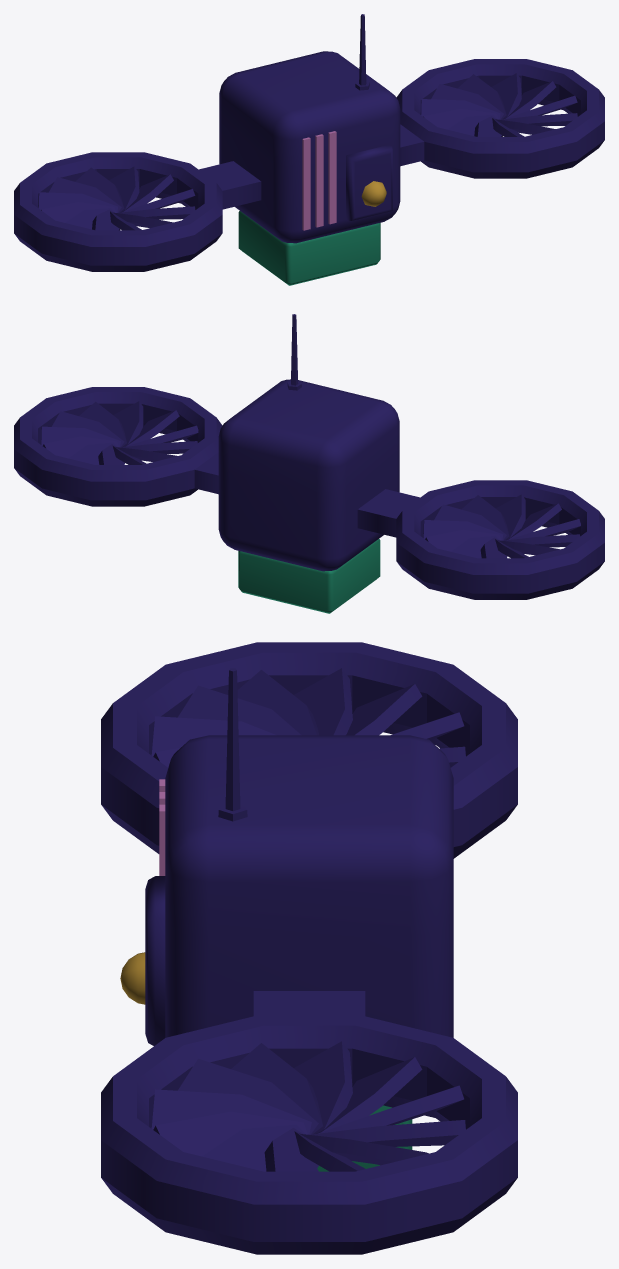
File: SM_Enemy_Blocking_02.fbx
3 renders of one model, top to bottom at view 1: azimuth 30°, elevation 25°; view 2: azimuth 150°, elevation 25°; view 3: azimuth 270°, elevation 25°, orthographic. The views are drawn at different scales.
Visible parts, largest first — view 1: SM_Body, SM_Fan_R, SM_Fan_L, SM_Bomb, SM_Emissive, SM_Eye; view 2: SM_Body, SM_Fan_R, SM_Fan_L, SM_Bomb; view 3: SM_Body, SM_Fan_L, SM_Fan_R, SM_Eye.
Part boxes in pixels (box(x1,y1,x2,y2)): SM_Body: box(14, 14, 604, 271); SM_Fan_R: box(38, 166, 195, 230); SM_Fan_L: box(420, 73, 577, 136); SM_Bomb: box(238, 211, 380, 285); SM_Emissive: box(302, 131, 336, 230); SM_Eye: box(361, 181, 386, 206); SM_Body: box(14, 314, 604, 599); SM_Fan_R: box(423, 494, 580, 558); SM_Fan_L: box(41, 401, 198, 464); SM_Bomb: box(238, 539, 380, 613); SM_Body: box(101, 642, 517, 1254); SM_Fan_L: box(151, 1041, 465, 1171); SM_Fan_R: box(151, 668, 465, 767); SM_Eye: box(120, 952, 145, 1004).
Size of the model in its own units: 4.51 by 1.91 by 1.45.
